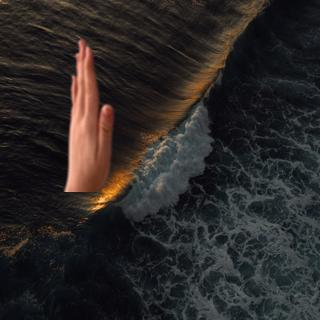Right: (55, 31, 113, 180)
